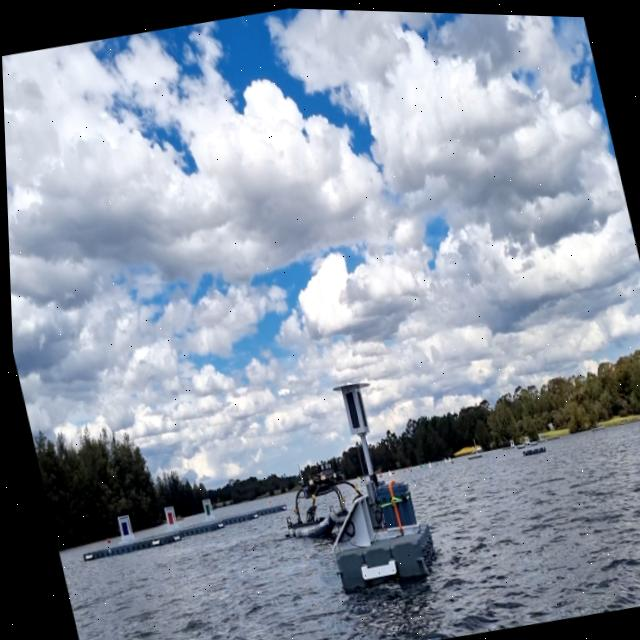led: (340, 386, 360, 431)
